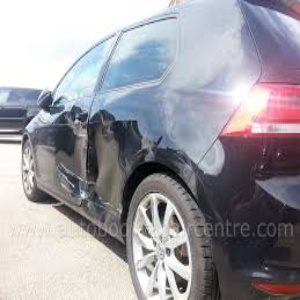door: (41, 104, 123, 214)
